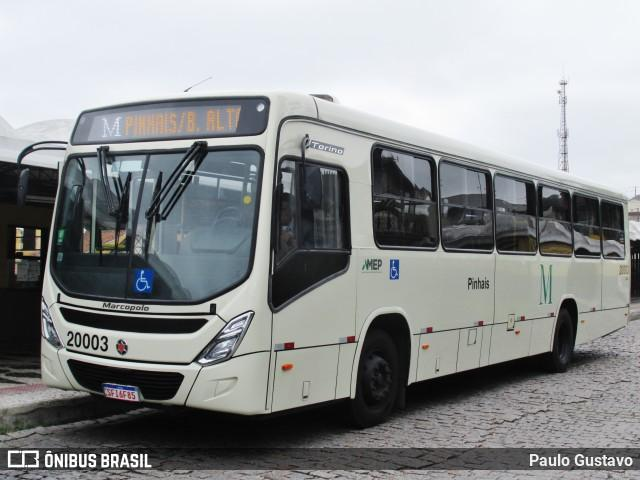PINHAIS B. ALTO: (121, 103, 247, 143)
